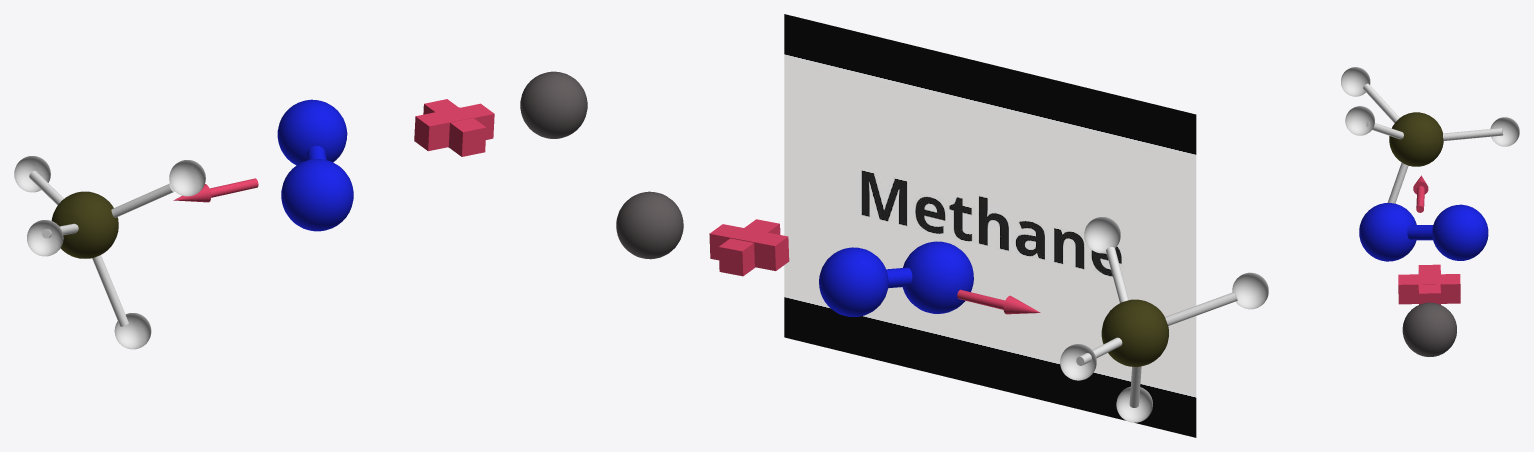
The model's file is methane_formation.glb.
The picture shows the model from 3 angles, left to right: view 1: azimuth 30°, elevation 25°; view 2: azimuth 150°, elevation 25°; view 3: azimuth 270°, elevation 25°; orthographic projection. The views are drawn at different scales.
Visible parts, largest first — view 1: Methane, Hydrogen, Carbon1, Plus, Arrow; view 2: ImageTargetPreview, Methane, Hydrogen, Carbon1, Plus, Arrow; view 3: Methane, Hydrogen, Carbon1, Plus, Arrow.
Boxes of the visible parts, <box> form: Methane: <box>14,156,205,349</box>; Hydrogen: <box>277,99,353,231</box>; Carbon1: <box>520,71,587,138</box>; Plus: <box>414,99,494,156</box>; Arrow: <box>173,178,258,202</box>; ImageTargetPreview: <box>784,14,1196,437</box>; Methane: <box>1060,217,1268,422</box>; Hydrogen: <box>819,241,973,316</box>; Carbon1: <box>616,191,683,259</box>; Plus: <box>709,219,789,276</box>; Arrow: <box>957,289,1040,314</box>; Methane: <box>1341,67,1519,203</box>; Hydrogen: <box>1359,203,1488,261</box>; Carbon1: <box>1402,302,1456,356</box>; Plus: <box>1398,264,1460,304</box>; Arrow: <box>1413,175,1428,212</box>.
Size of the model in its own units: 14.55 by 7.5 by 5.79.
Materials: 11 (1 with a texture image).
